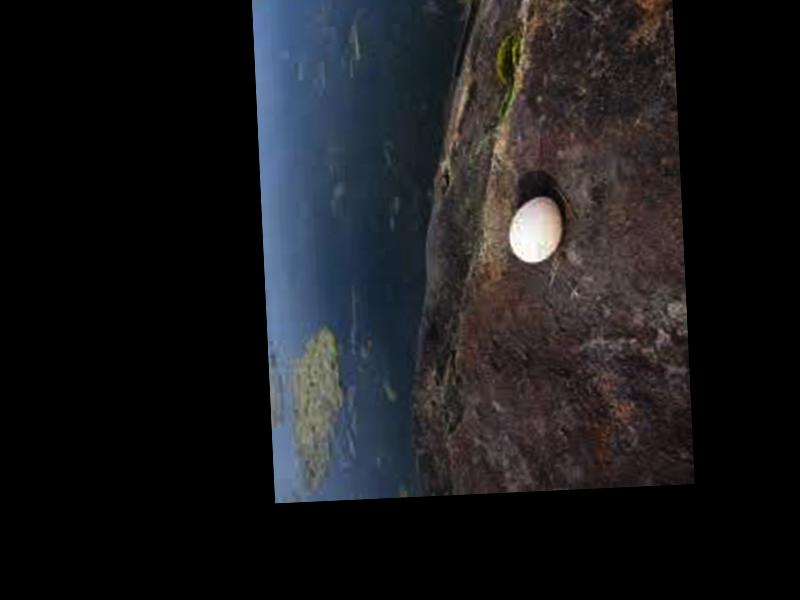Eggs: (506, 196, 563, 267)
